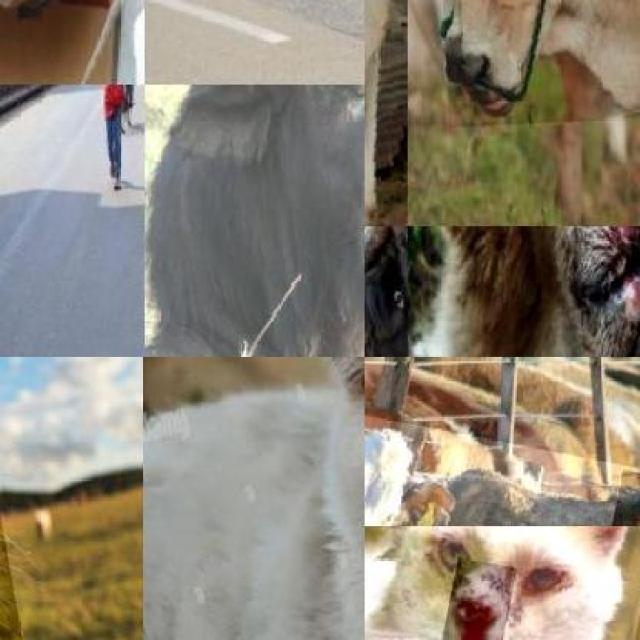buffalo: (144, 85, 364, 357)
cat: (143, 357, 365, 640), (364, 526, 640, 640)
cow: (364, 397, 640, 526), (431, 0, 640, 126), (0, 357, 45, 640), (100, 0, 145, 85)
dog: (407, 226, 640, 357)
injured: (511, 226, 640, 357), (438, 555, 516, 640), (603, 469, 640, 526)
